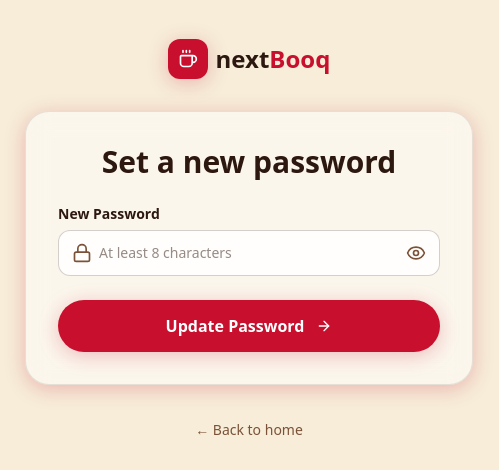
Test: ResetPasswordPage › shows an inline error when the mutation fails (expired/invalid/reused token)
In the password field with placeholder "At least 8 characters": (249, 253) [58, 230, 440, 276], type "BrandNewPassword1!"
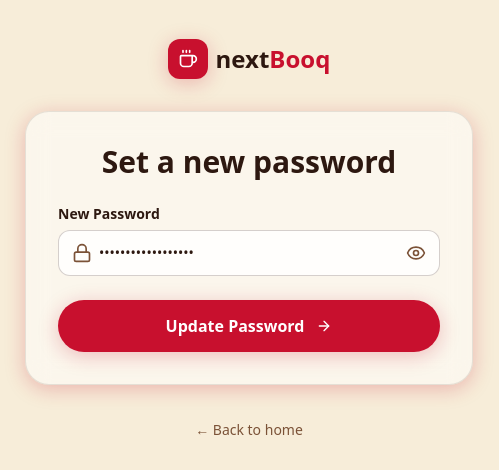
Click the button "Update Password": (249, 326) [58, 300, 440, 352]
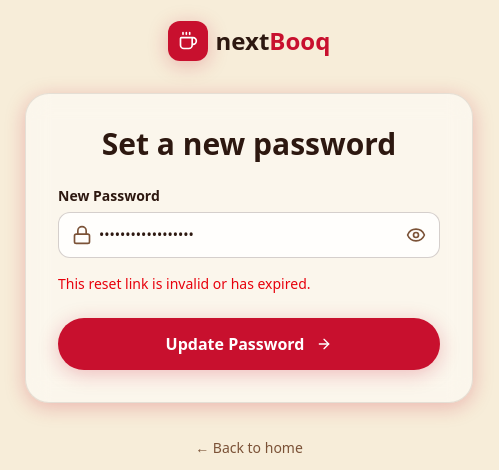
Expected: the text "This reset link is invalid or has expired." is shown, [58, 274, 310, 293]
